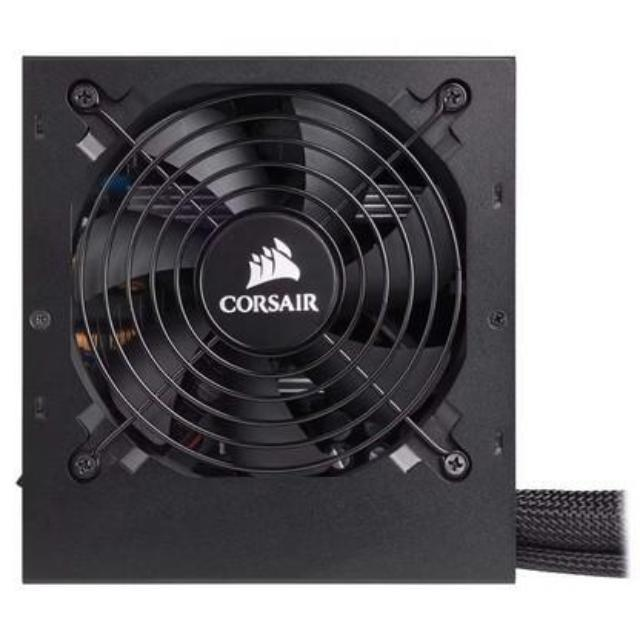PSU: (5, 44, 543, 598)
